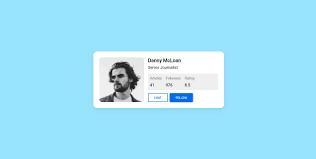button: (170, 94, 194, 103), (149, 94, 169, 103)
